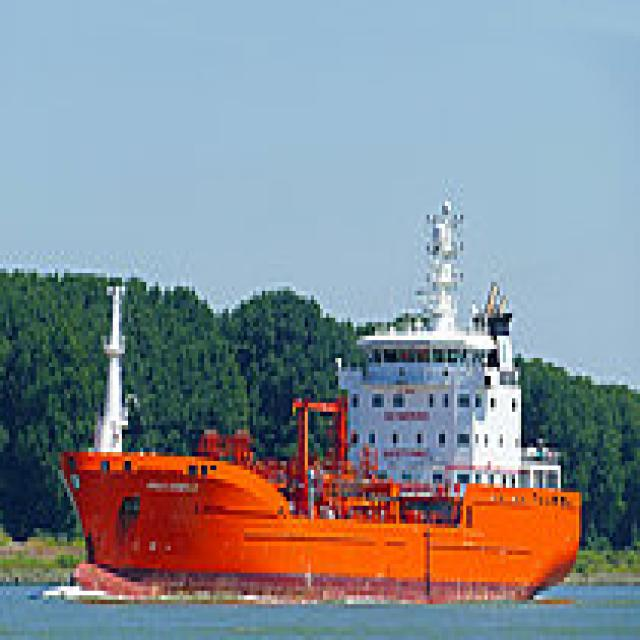Tanker: (52, 188, 582, 600)
